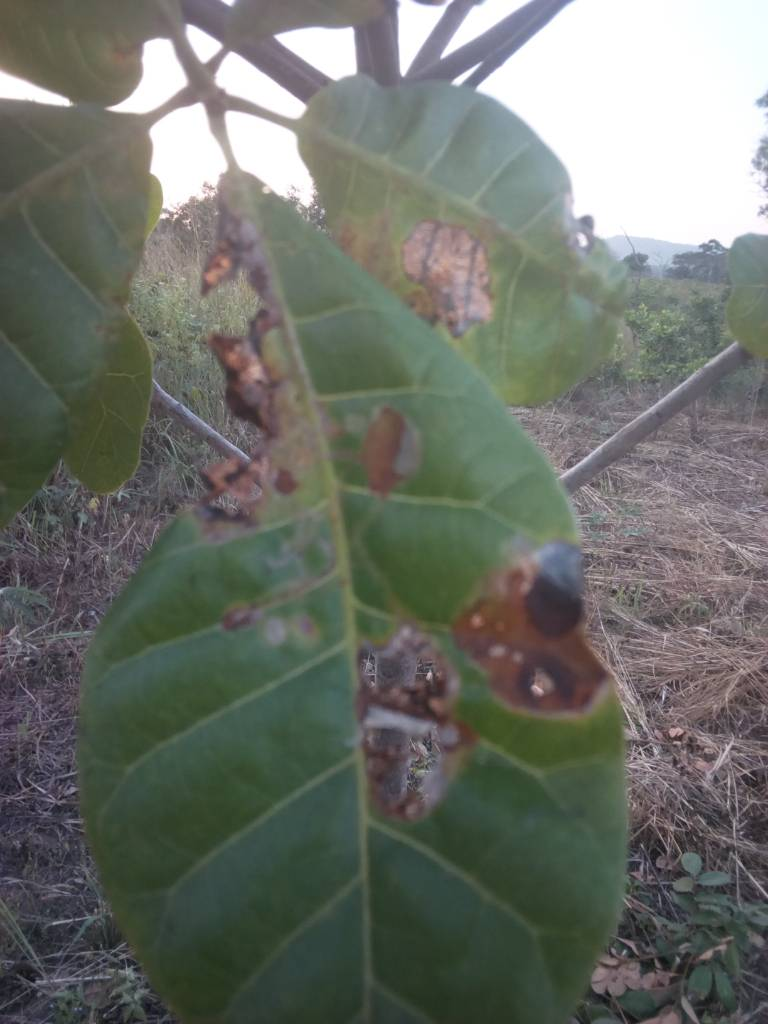Dysdercus wolkerii: (285, 51, 680, 403)
